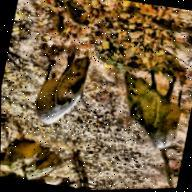boar: (110, 65, 188, 153), (31, 48, 93, 131)
